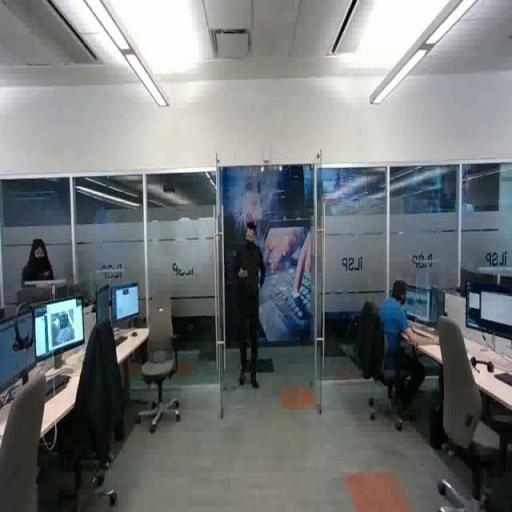person: (372, 276, 426, 417), (232, 224, 266, 391), (22, 236, 65, 321)
